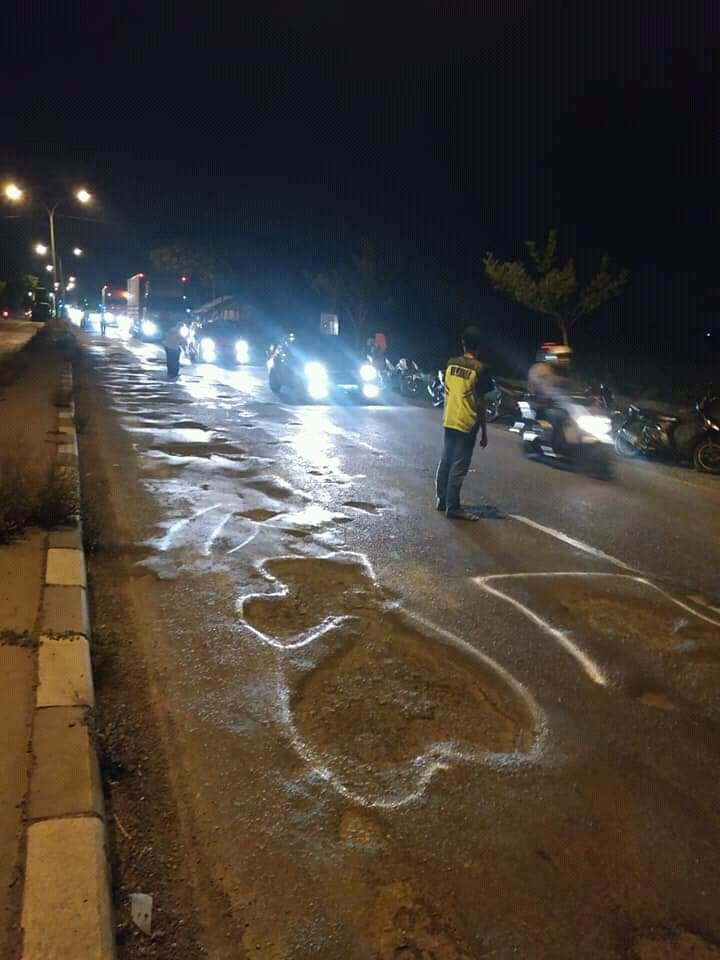Pothole: (38, 281, 642, 818)
